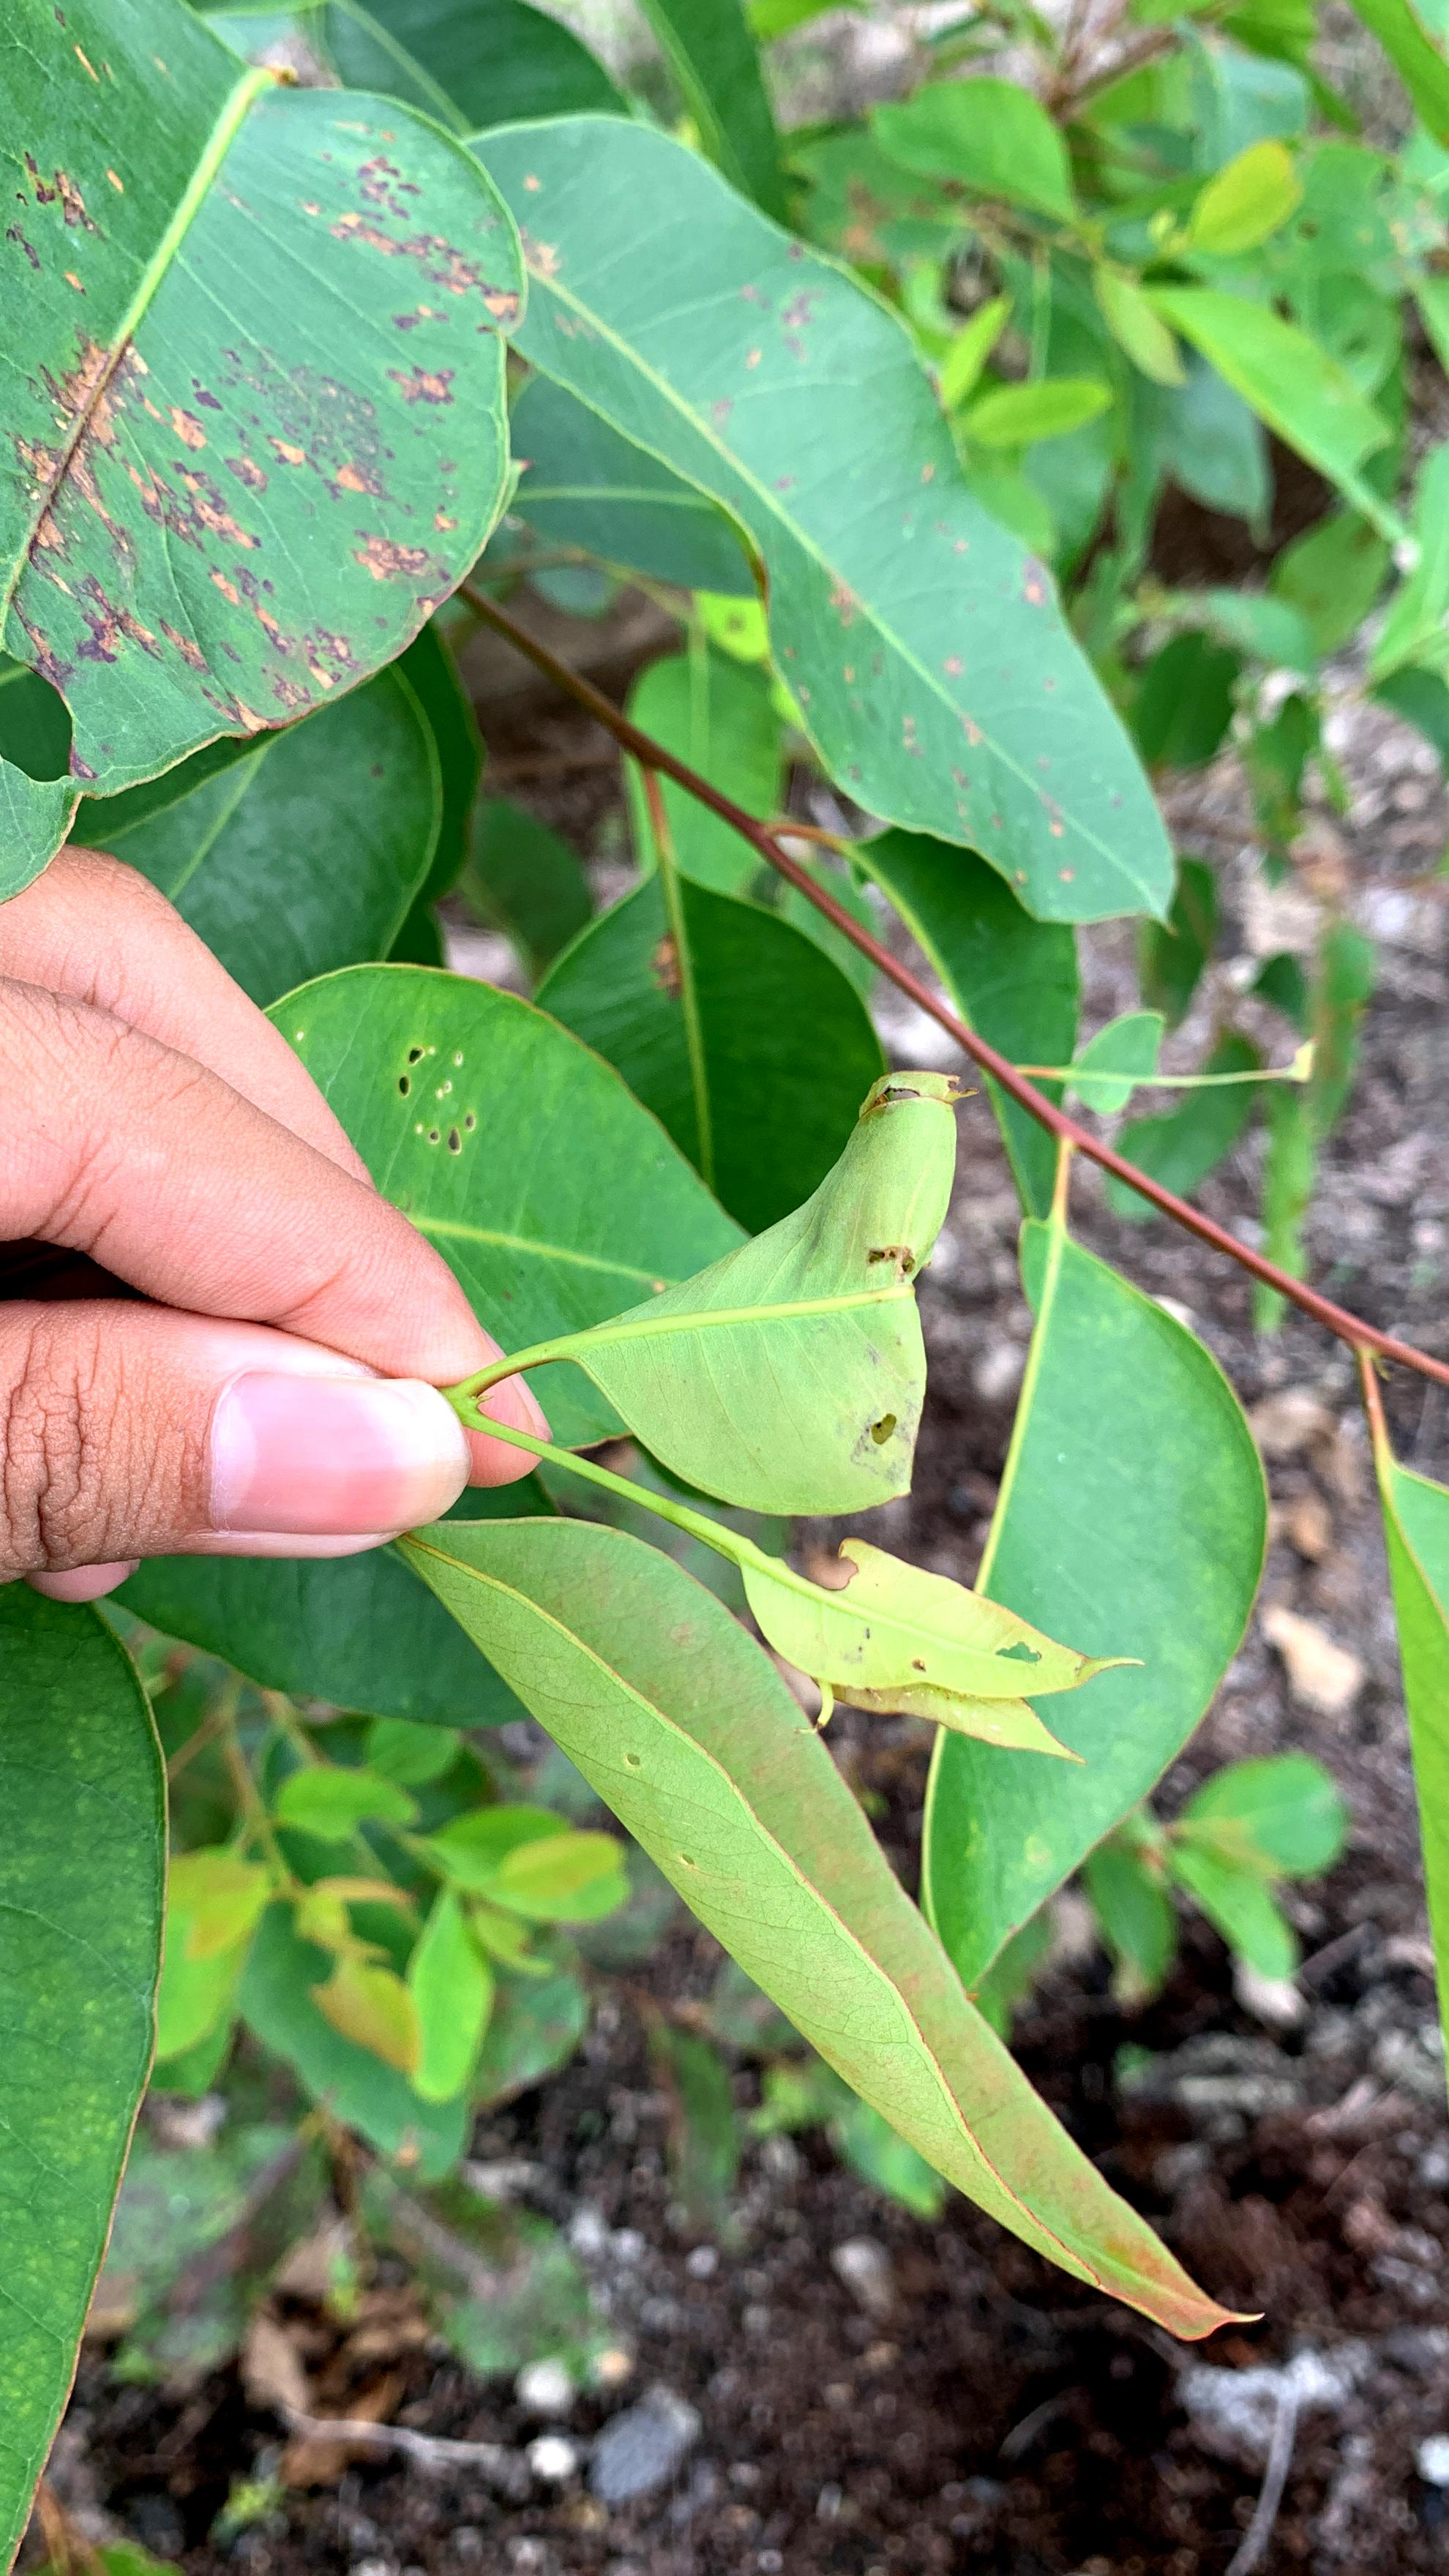Leaf Roller - Leaf: (609, 1081, 966, 1532)
